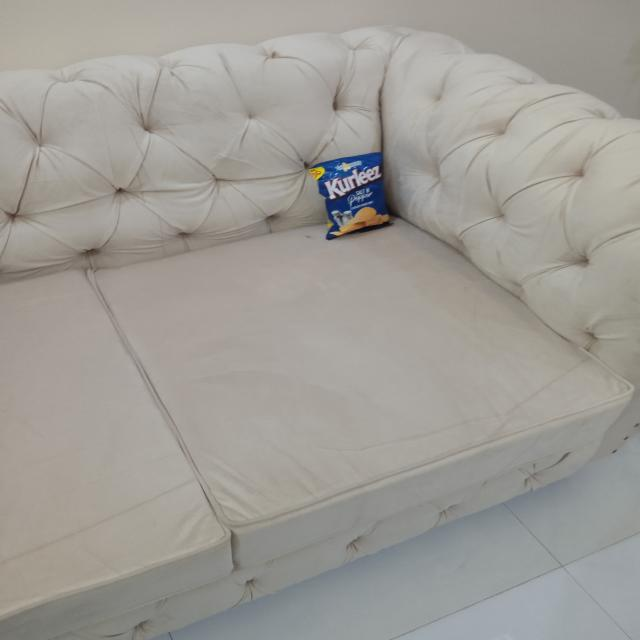Plastic: (304, 146, 402, 239)
